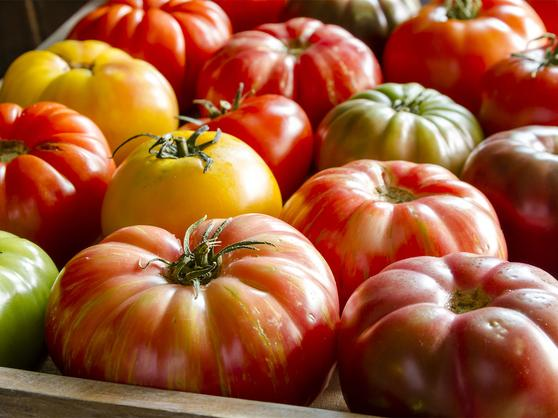tomato: (47, 209, 345, 397)
